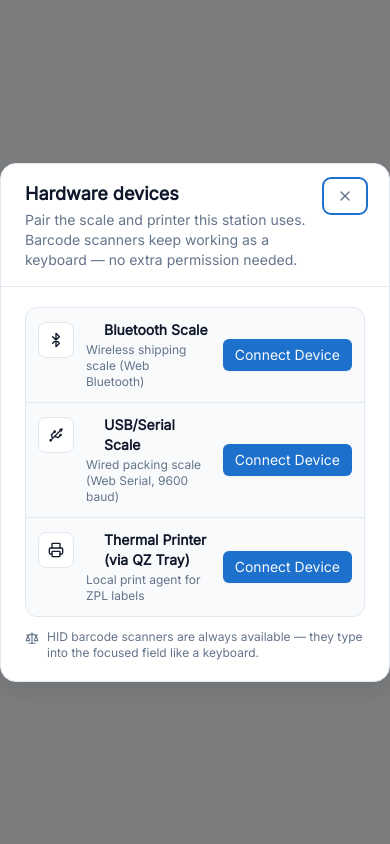
it: DeviceManagerModal › pairs a Bluetooth scale through Web Bluetooth and toasts success
Step 1. Click the button with test id "device-connect-bluetooth-scale" → (287, 354), box x1=223 y1=338 x2=352 y2=370
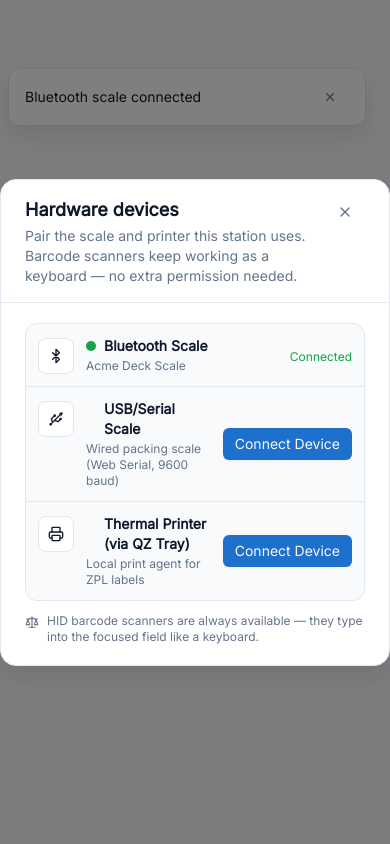
expect the message with test id "app-toast" reads "Bluetooth scale connected": met, box x1=25 y1=88 x2=201 y2=105
